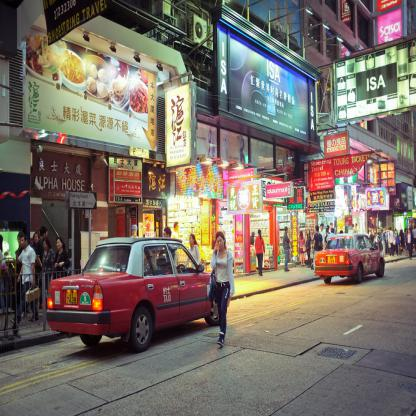taxi: (45, 226, 211, 365), (314, 234, 387, 286)
